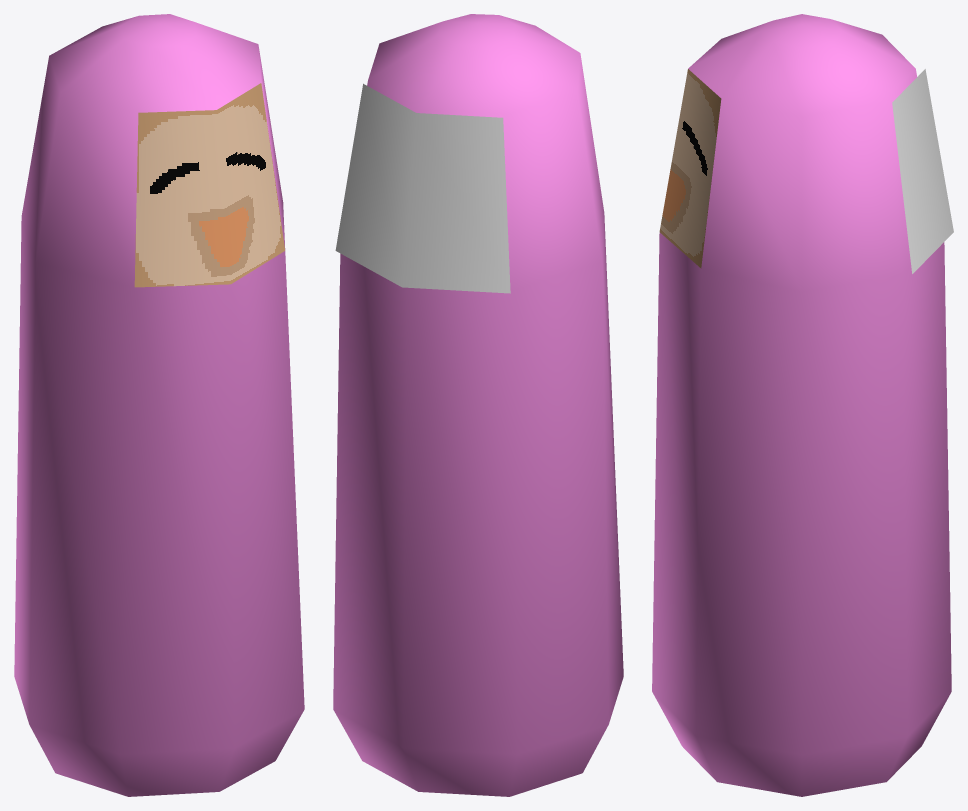
Rendered from OTA_N_06.glb.
The picture shows the model from 3 angles, left to right: view 1: azimuth 30°, elevation 25°; view 2: azimuth 150°, elevation 25°; view 3: azimuth 270°, elevation 25°; orthographic projection.
Visible parts, largest first — view 1: FRAME_ROOT; view 2: FRAME_ROOT; view 3: FRAME_ROOT.
Part boxes in pixels (<box>): FRAME_ROOT: <box>14,14,304,796</box>; FRAME_ROOT: <box>333,14,623,796</box>; FRAME_ROOT: <box>652,14,953,796</box>.
Bounding box in the file's own units: 1.28 × 3.4 × 1.29.
3 materials, 3 textured.
